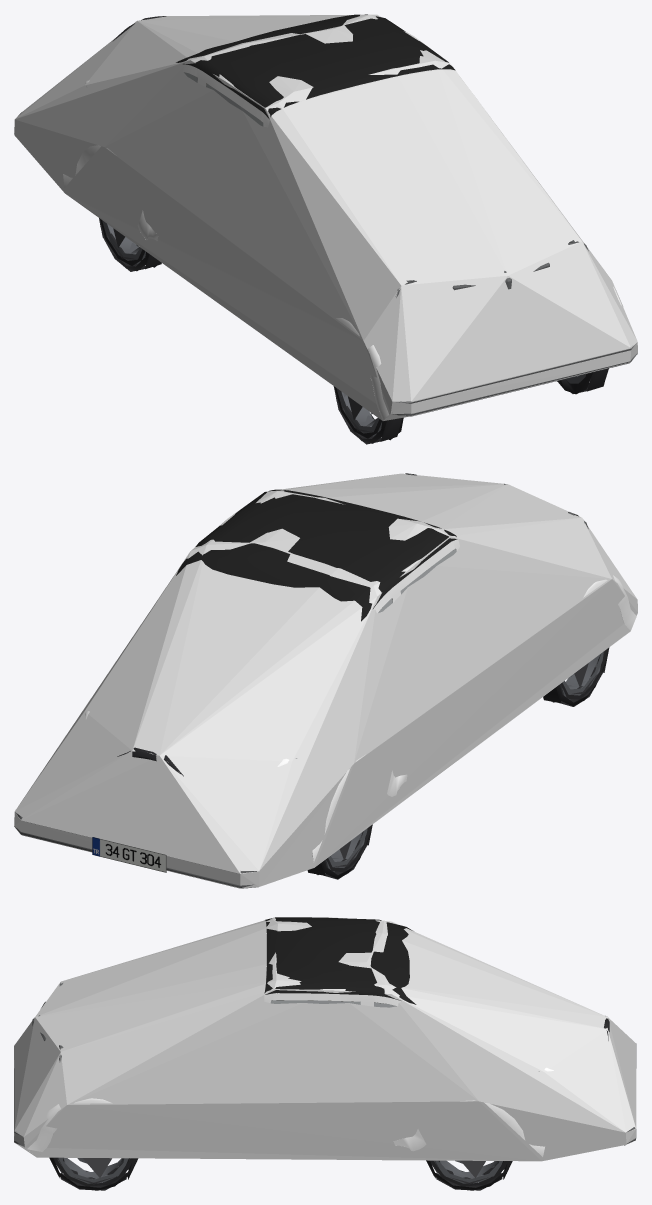
File: bosfor_galata_lod1.glb
3 views of the same model, one above another, from view 1: azimuth 30°, elevation 25°; view 2: azimuth 150°, elevation 25°; view 3: azimuth 270°, elevation 25° (orthographic). The views are drawn at different scales.
Visible parts, largest first — view 1: col_body, trim, body, wheel_FR, wheel_RR, wheel_FL; view 2: col_body, trim, body, wheel_FR, plate_rear, wheel_RR; view 3: col_body, trim, body, wheel_FL, wheel_RL.
Boxes of the visible parts, box(x1,y1,x2,y2) form: col_body: box(14, 14, 637, 420); trim: box(19, 14, 637, 416); body: box(63, 64, 623, 420); wheel_FR: box(333, 386, 403, 444); wheel_RR: box(99, 218, 161, 271); wheel_FL: box(557, 368, 608, 394); col_body: box(14, 473, 637, 888); trim: box(14, 473, 588, 888); body: box(85, 489, 636, 862); wheel_FR: box(543, 647, 609, 706); plate_rear: box(92, 837, 166, 872); wheel_RR: box(307, 824, 372, 879); col_body: box(14, 917, 636, 1161); trim: box(14, 917, 636, 1145); body: box(27, 920, 553, 1156); wheel_FL: box(49, 1157, 138, 1190); wheel_RL: box(426, 1160, 512, 1190).
Bounding box in the file's own units: 1.74 × 1.68 × 4.74.
10 materials, 1 textured.
